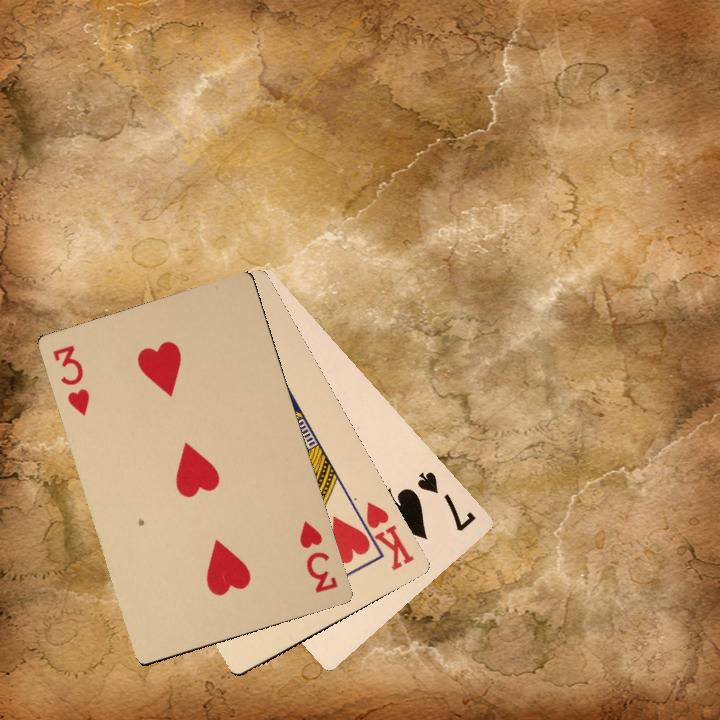3h: (295, 517, 341, 596), (48, 341, 92, 418)
7s: (413, 467, 479, 534)
Kh: (350, 497, 417, 573)
